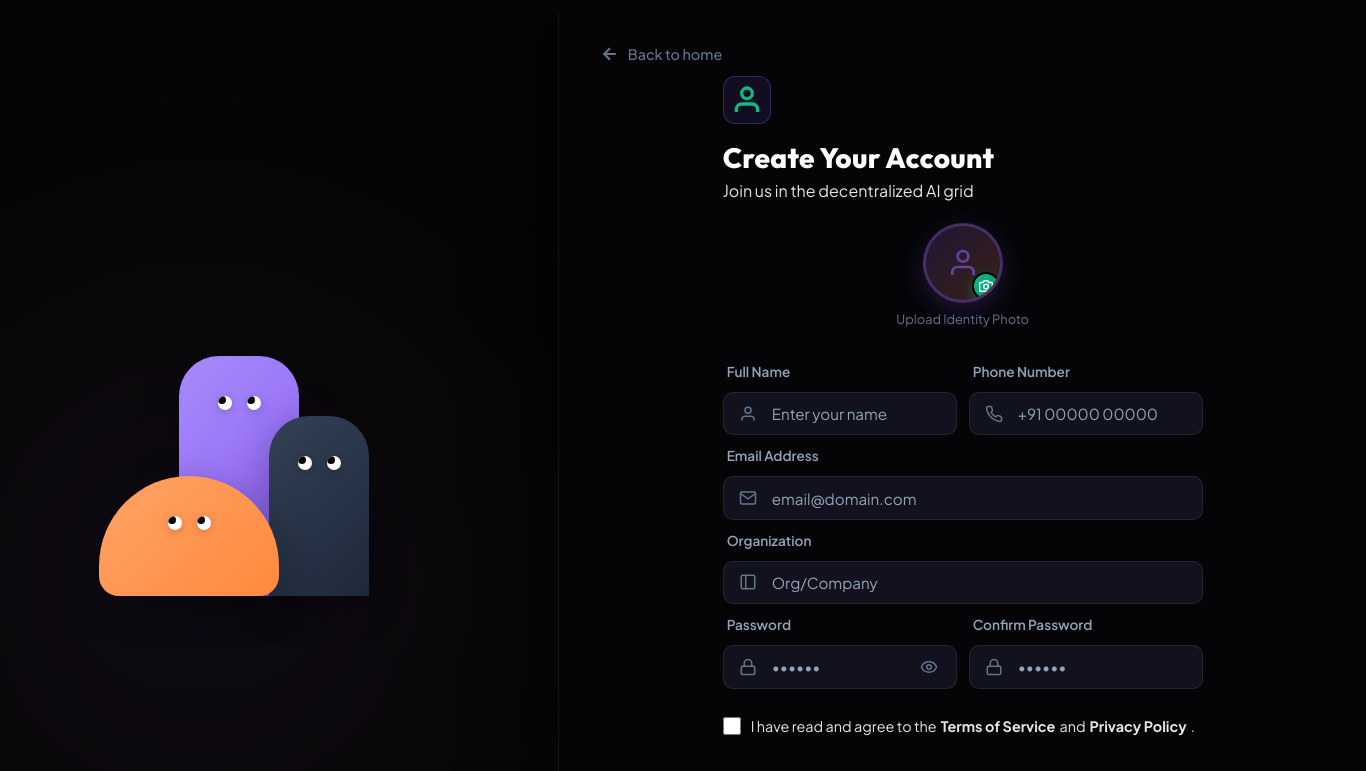
Test case: terms must be accepted
The image size is (1366, 771).
Type "Asha Rao" into the field with placeholder "Enter your name" at (840, 414), box [723,392,957,435]
Type "+91 98765 43210" into the field with placeholder "+91 00000 00000" at (1086, 414), box [969,392,1203,435]
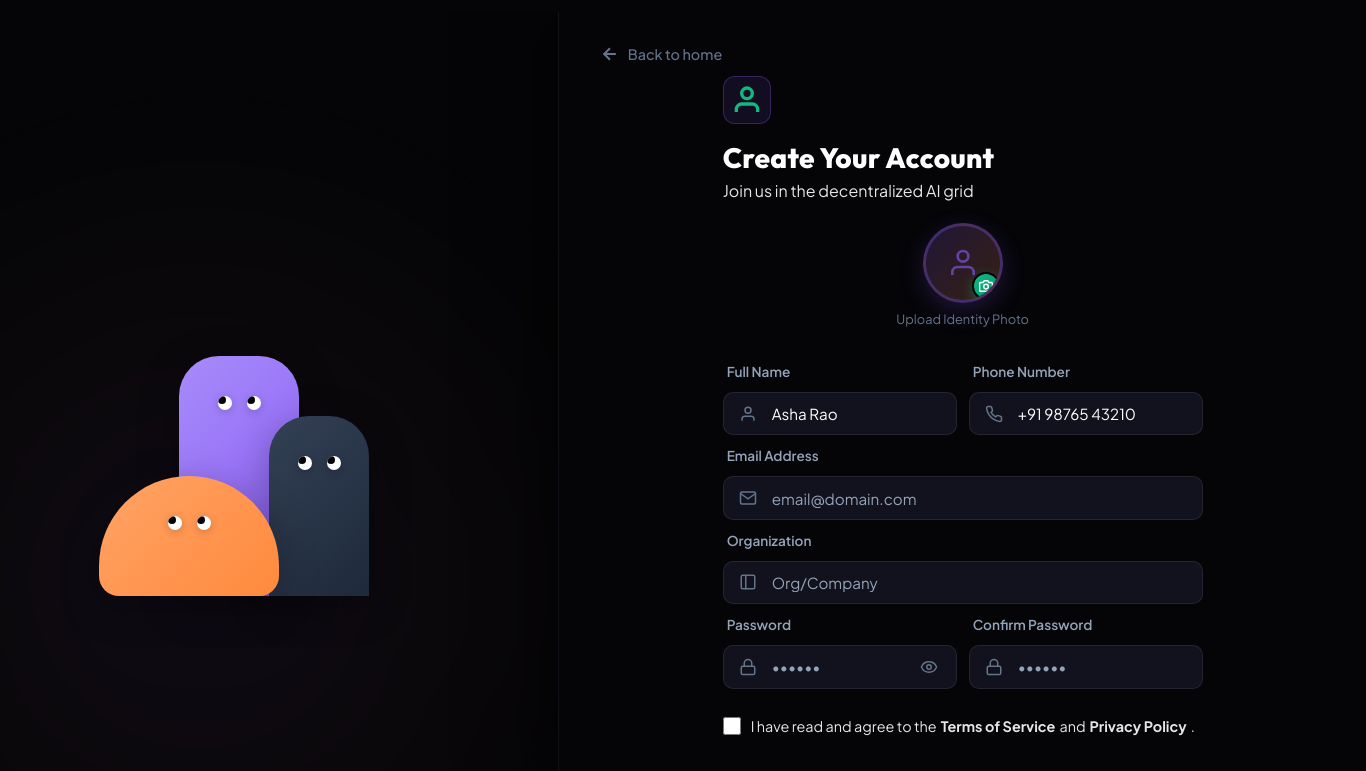
Type "asha@x.com" into the field with placeholder "email@domain.com" at (963, 498), box [723,476,1203,520]
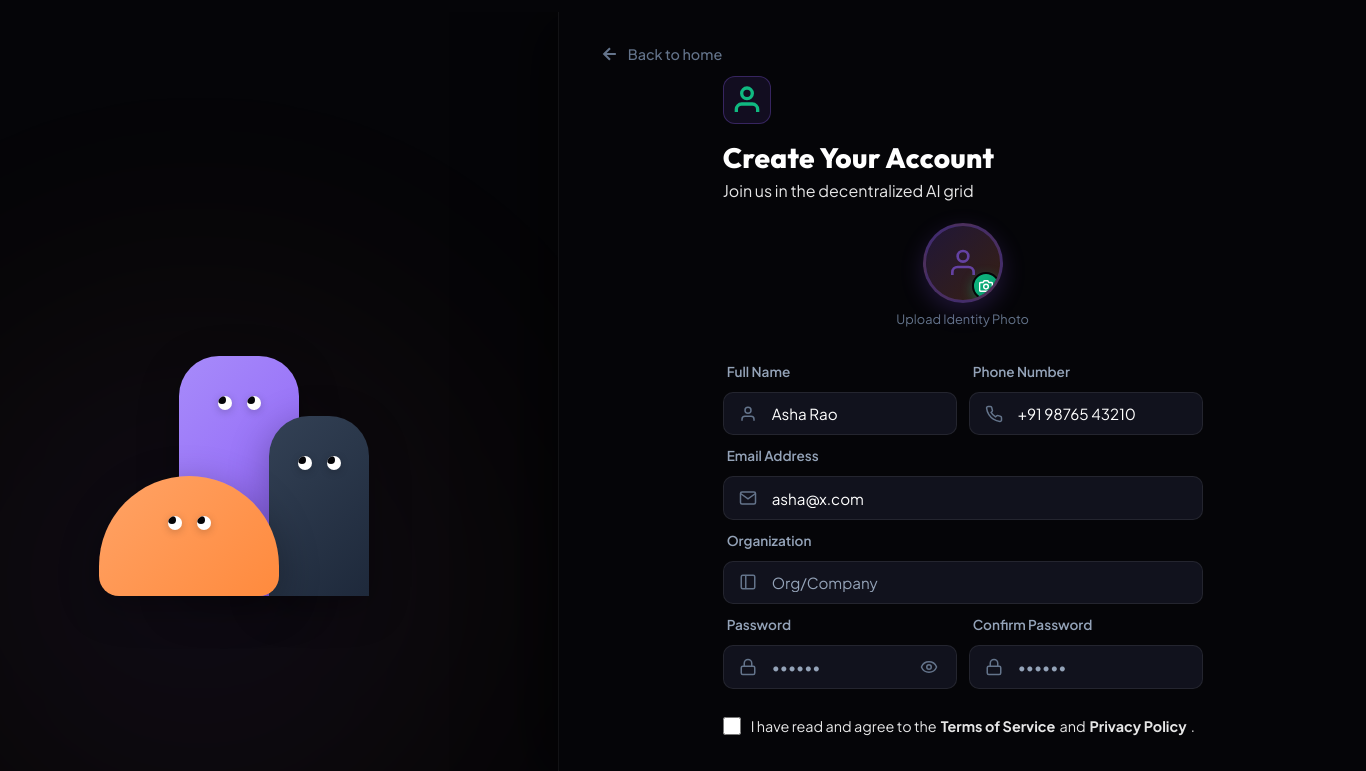
Type "Acme" into the field with placeholder "Org/Company" at (963, 582), box [723,561,1203,604]
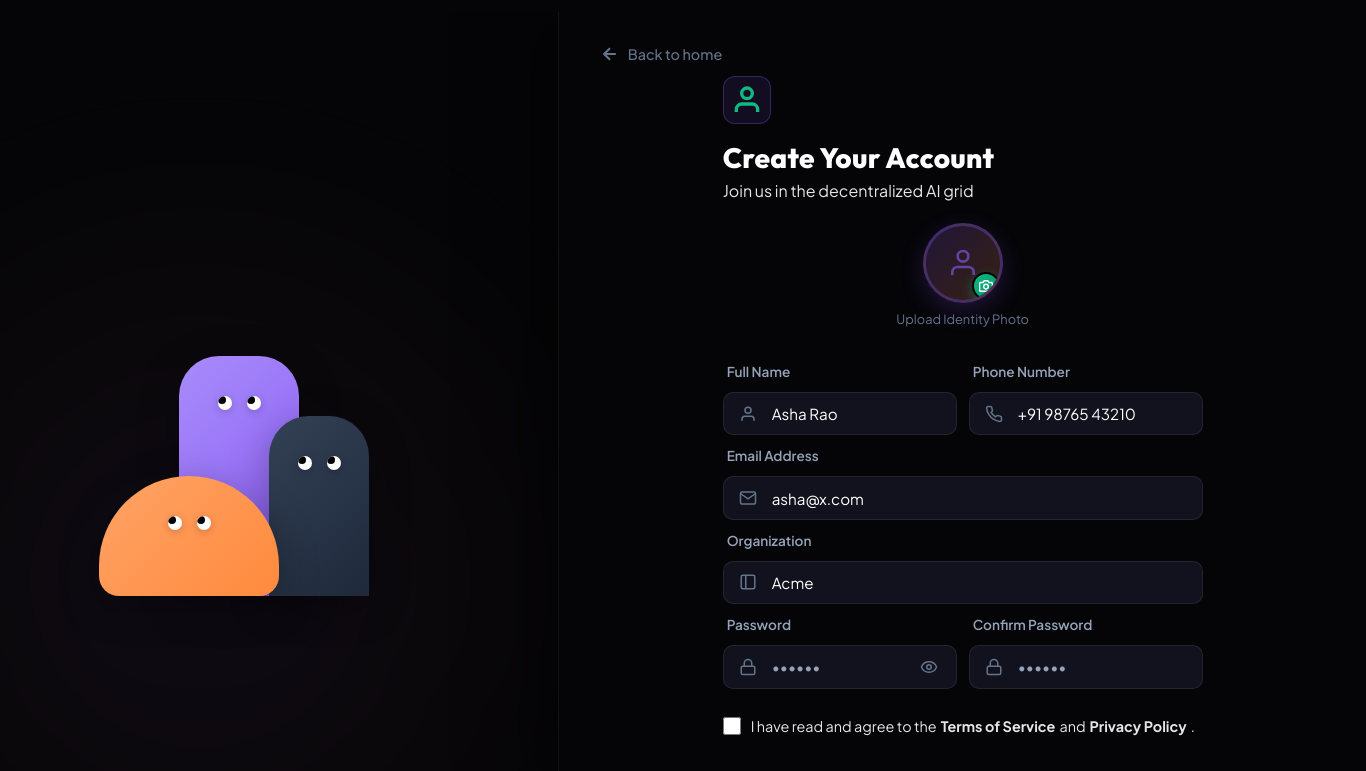
Type "dummy-test-password" into the password field named "password" at (840, 667), box [723,645,957,688]
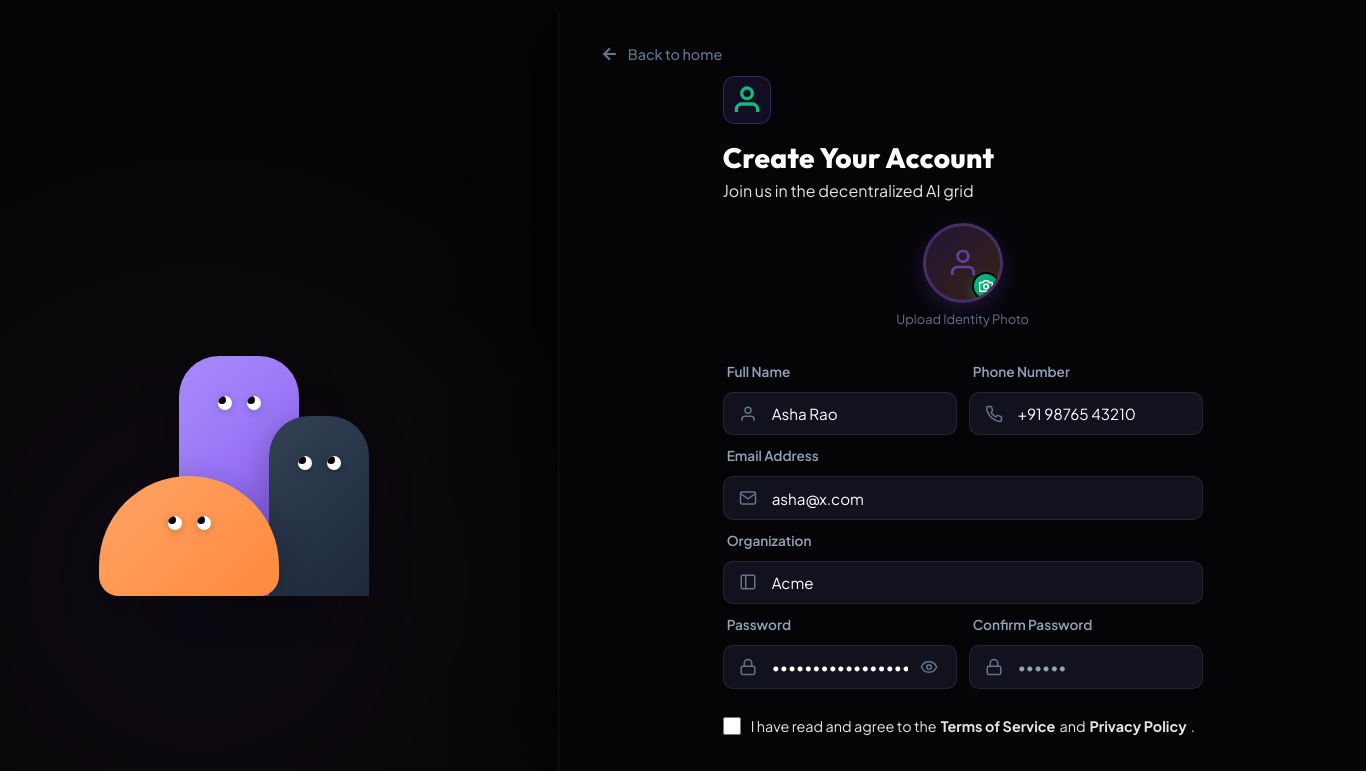
Type "dummy-test-password" into the password field named "confirmPassword" at (1086, 667), box [969,645,1203,688]
(page scrolled)
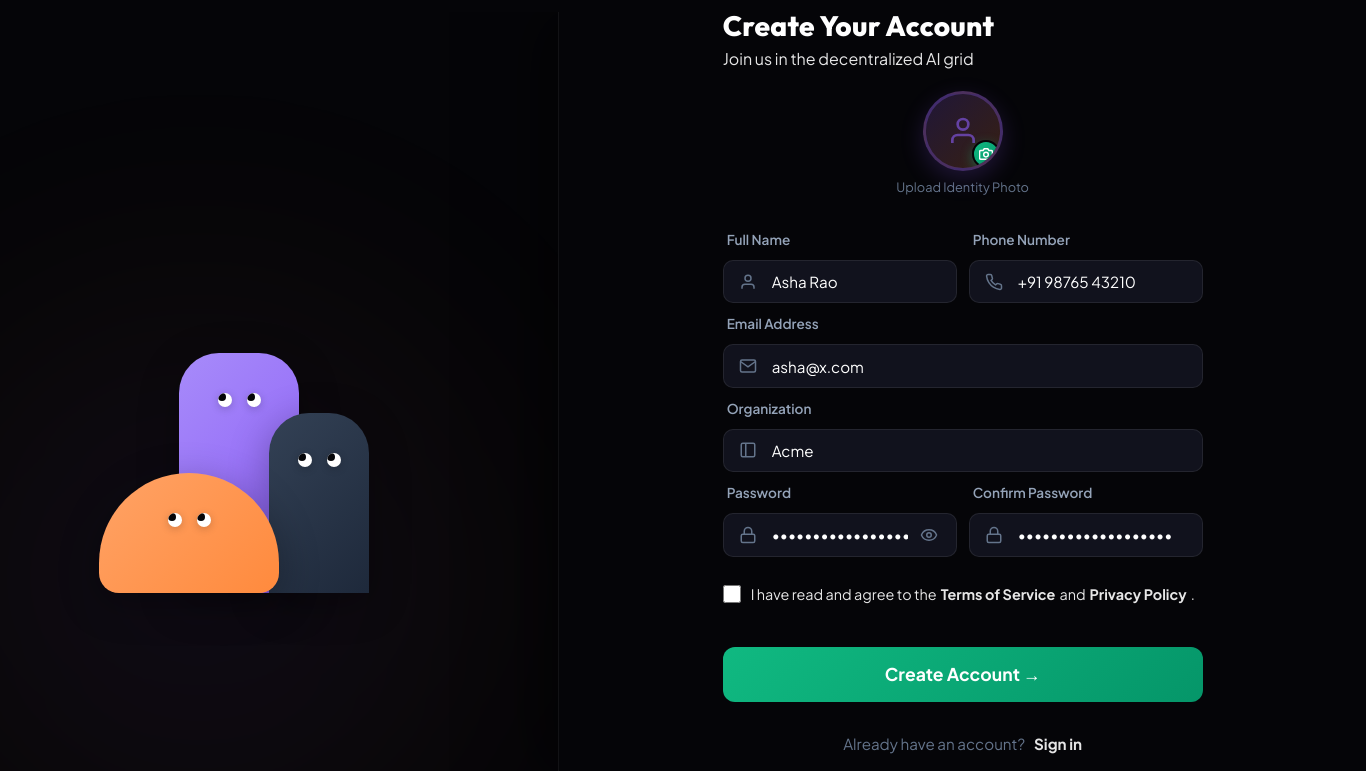
Submit the form, box [723,91,1203,702]
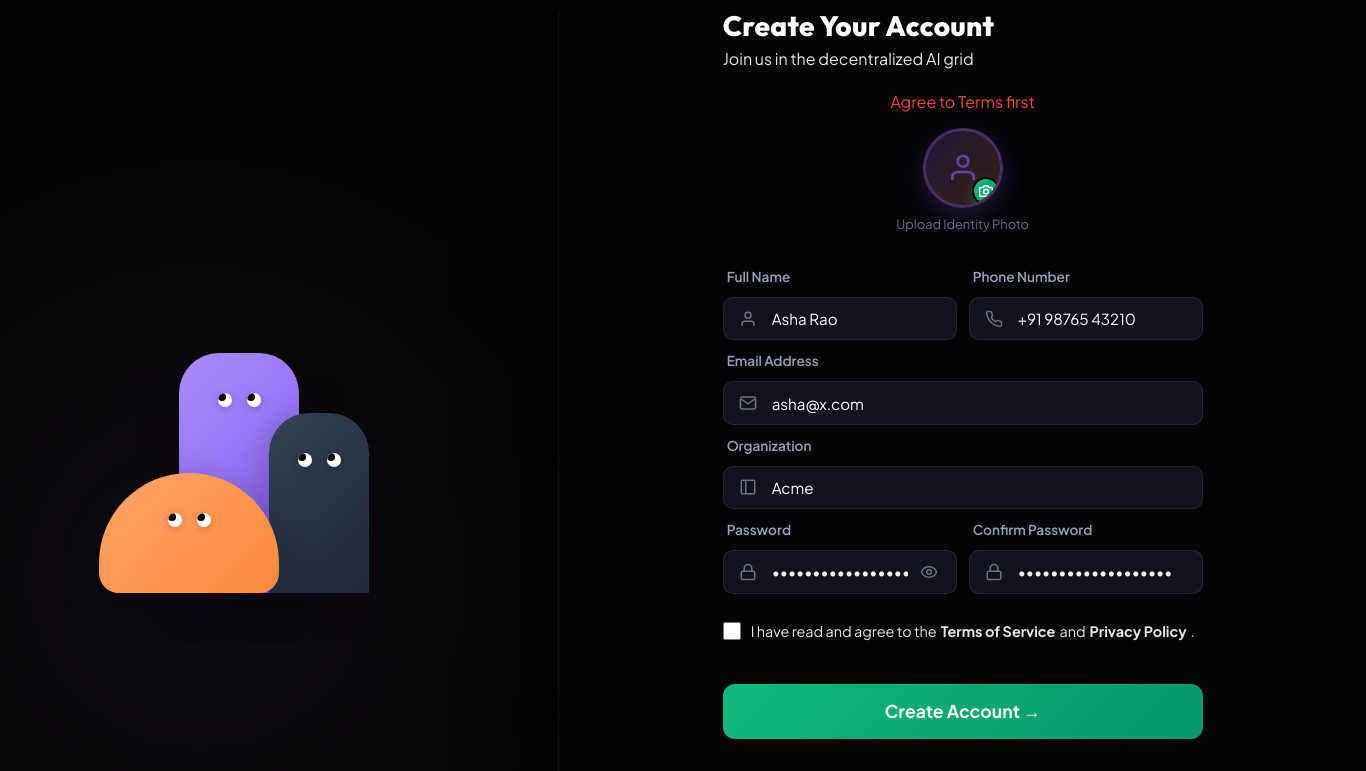
Now the text "Agree to Terms first" is shown, box [890,91,1035,112]
